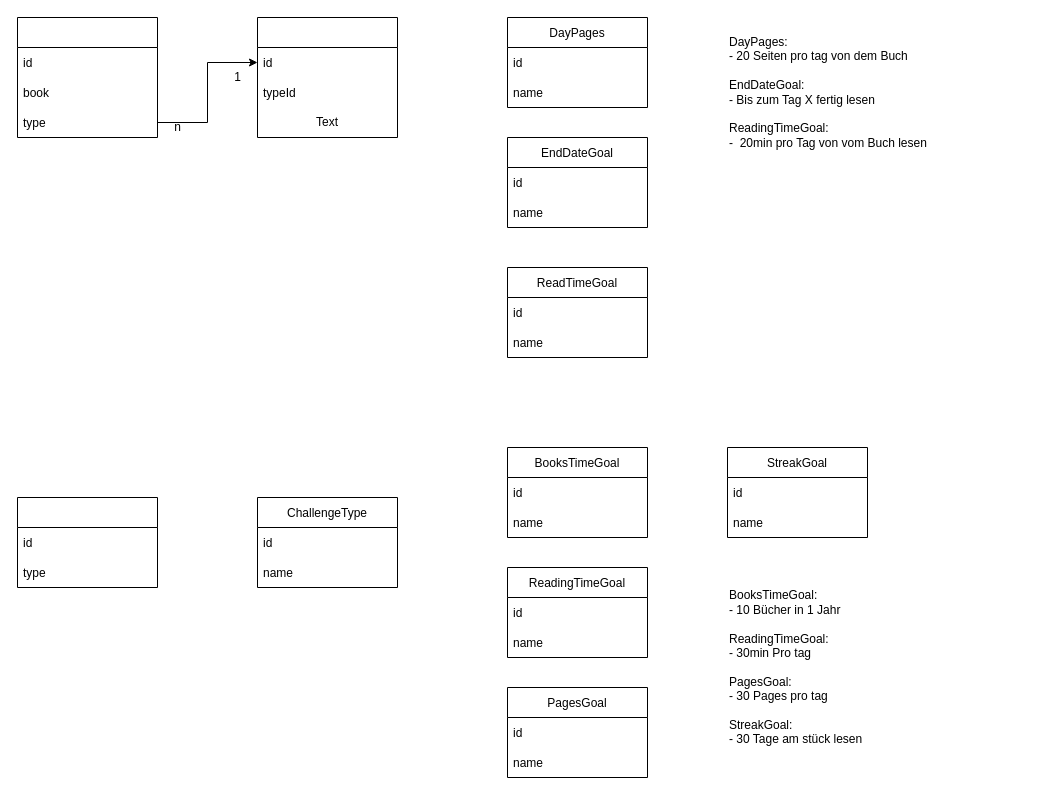
This 1045x795 diagram has some shape labels left out. The shapes that lost their labels are listed below. From the top down, each one's box as (x1, y1, x2, y2) in pixels, then its label:
(16, 16, 158, 138): BookChallenges
(256, 16, 398, 138): BookChallengeType
(16, 496, 158, 588): GeneralChallenges
